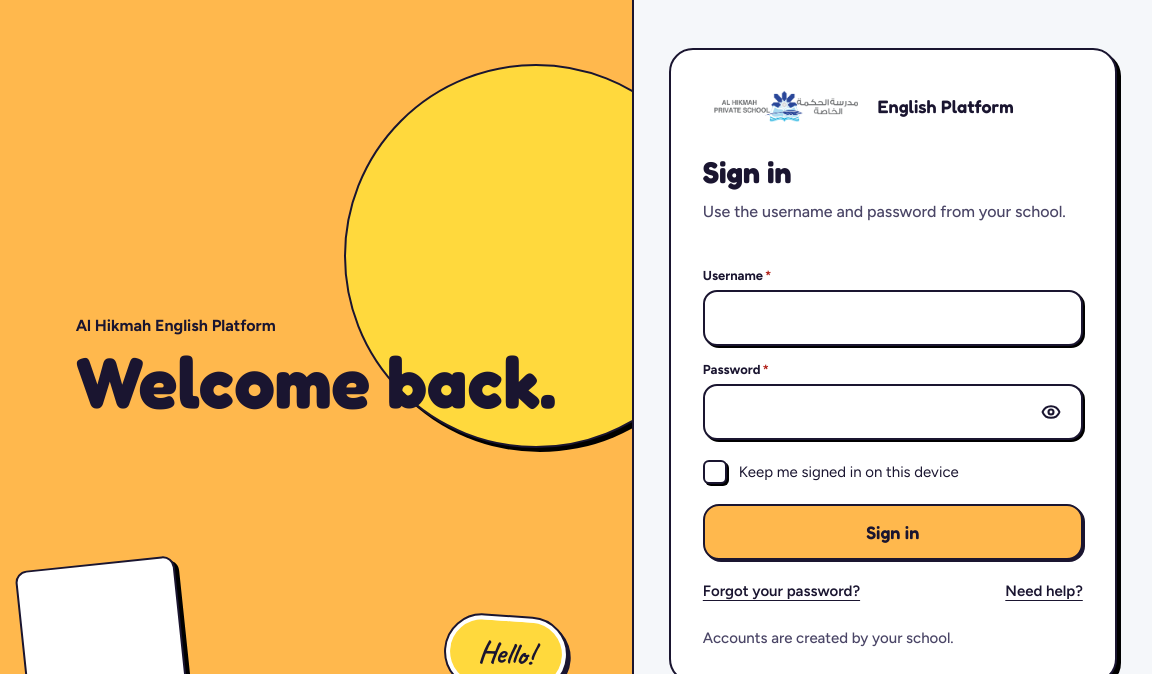
Test case: PUB-04: LoginPage (SH-02) › validation › rejects a short password and an invalid username
Type "a!" into the field labelled "Username*".
click(893, 318); type("a!")  # box [717,292,1069,344]
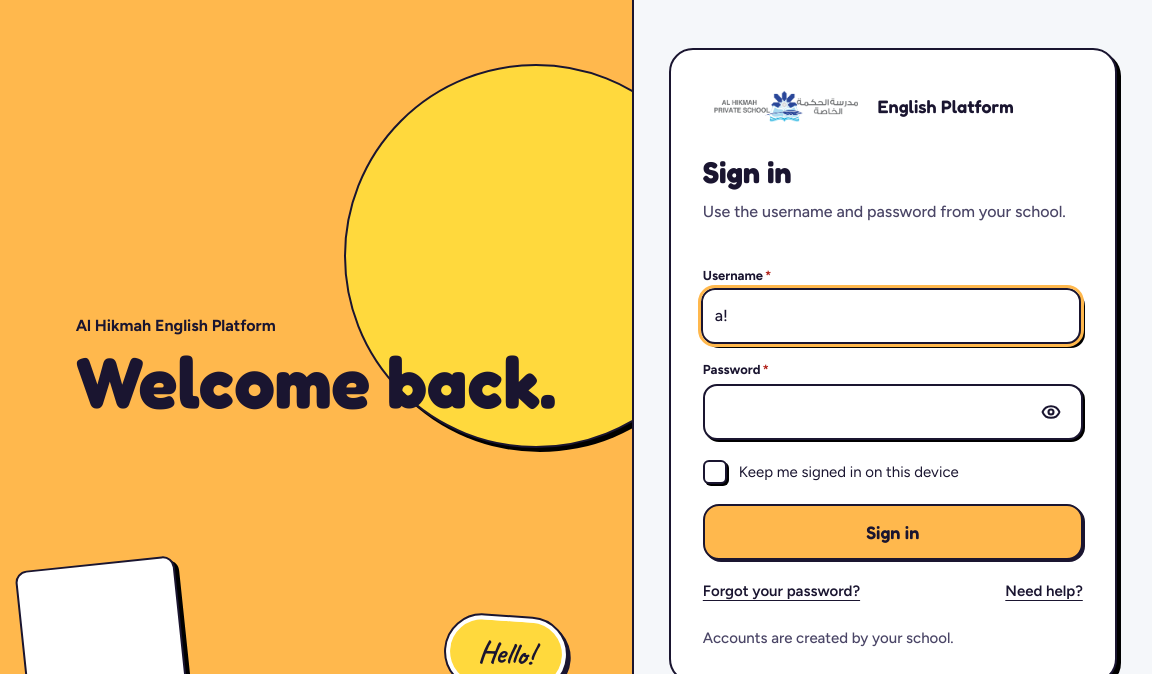
Type "abc" into the password field labelled "Password*".
click(871, 412); type("abc")  # box [717,386,1025,438]
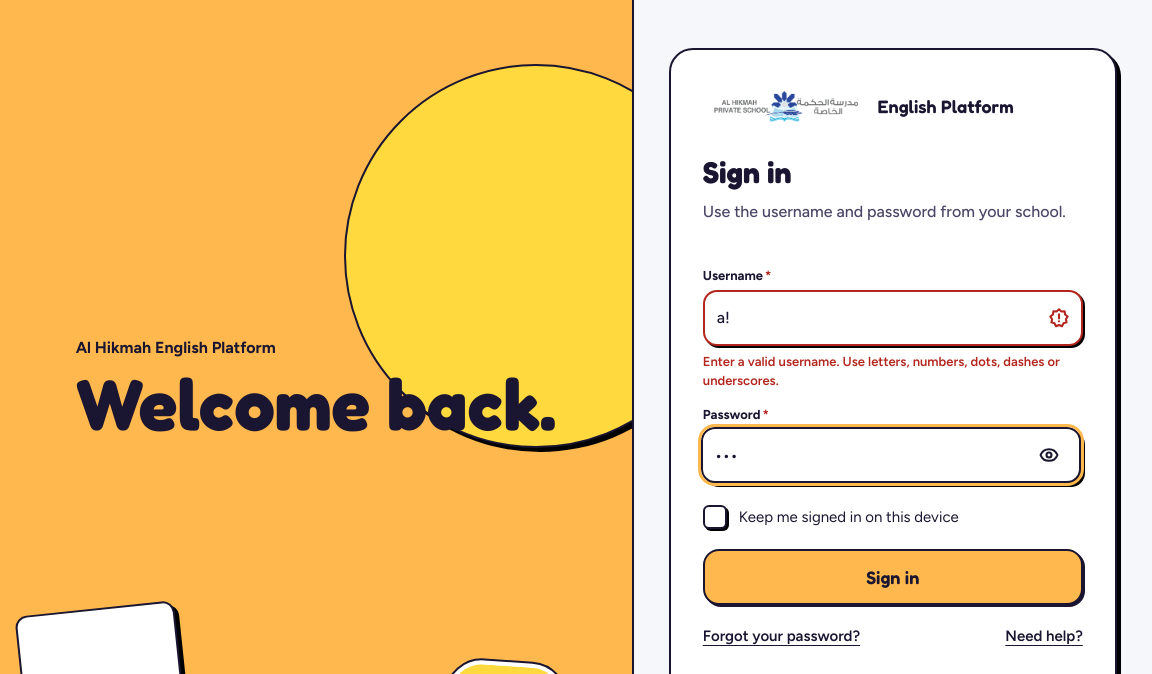
Click the button "Sign in".
click(893, 577)  # box [703,549,1083,605]
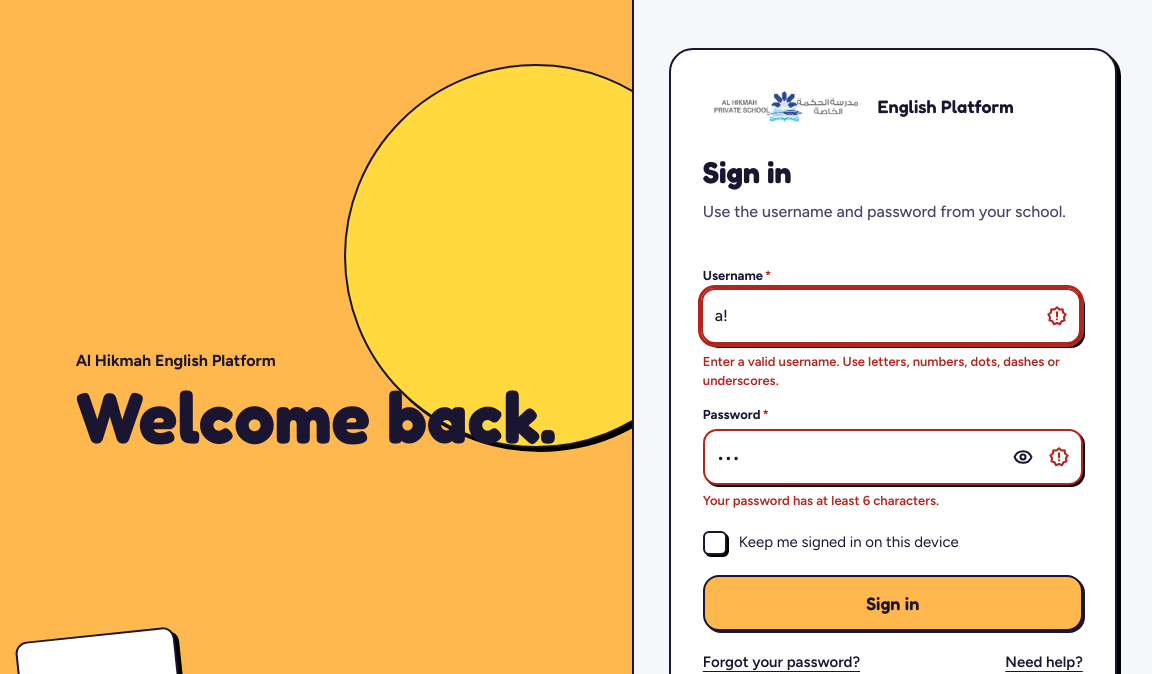
Expected: the text "Enter a valid username. Use letters, numbers, dots, dashes or underscores." is shown, [703,352,1083,391]
Expected: the text "Your password has at least 6 characters." is shown, [703,491,939,510]
